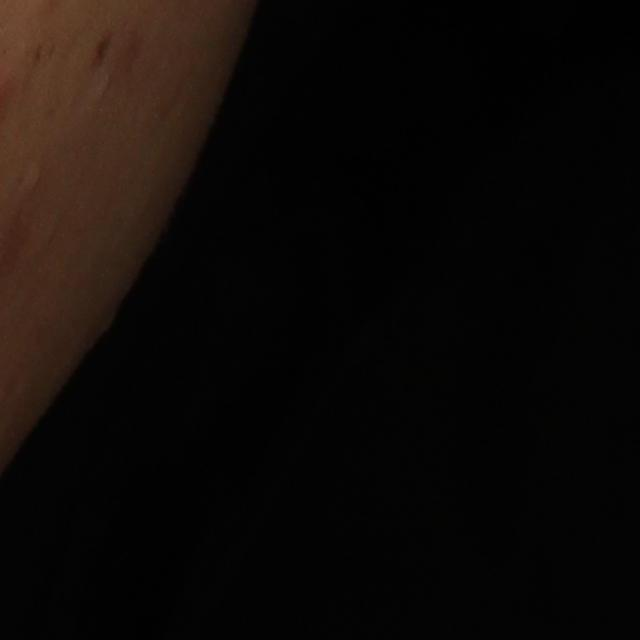nevus: (88, 26, 115, 66)
